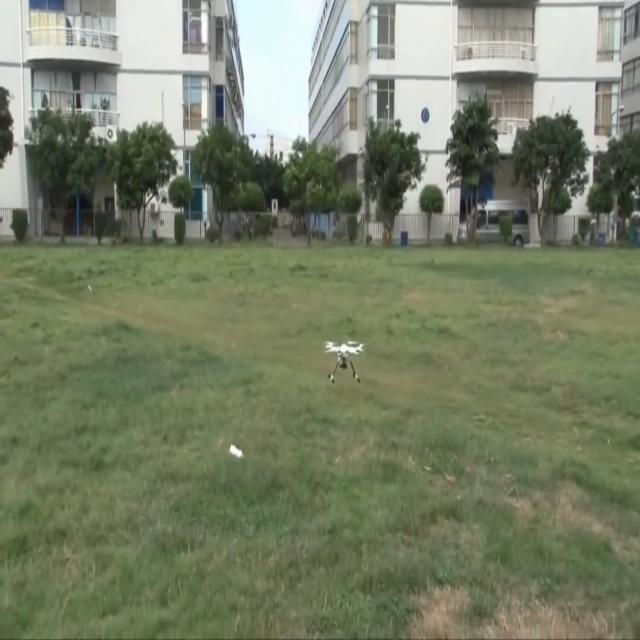drone: (326, 338, 364, 384)
